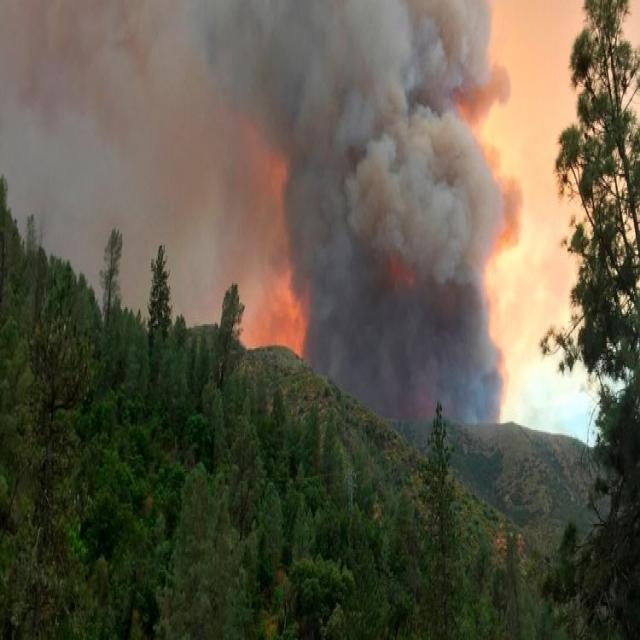Fire: (241, 268, 311, 357)
Smoke: (309, 0, 498, 422)
